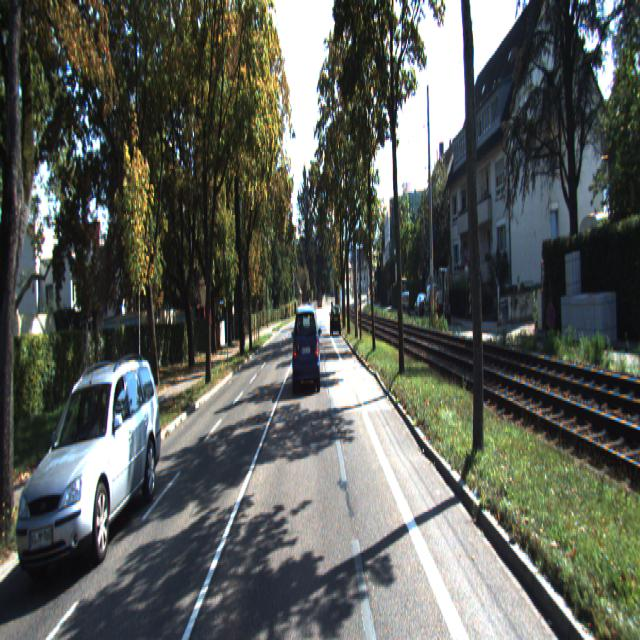Car: (21, 351, 166, 581), (292, 302, 322, 394), (435, 267, 450, 322), (424, 281, 441, 321), (415, 293, 431, 320), (330, 304, 342, 336)
